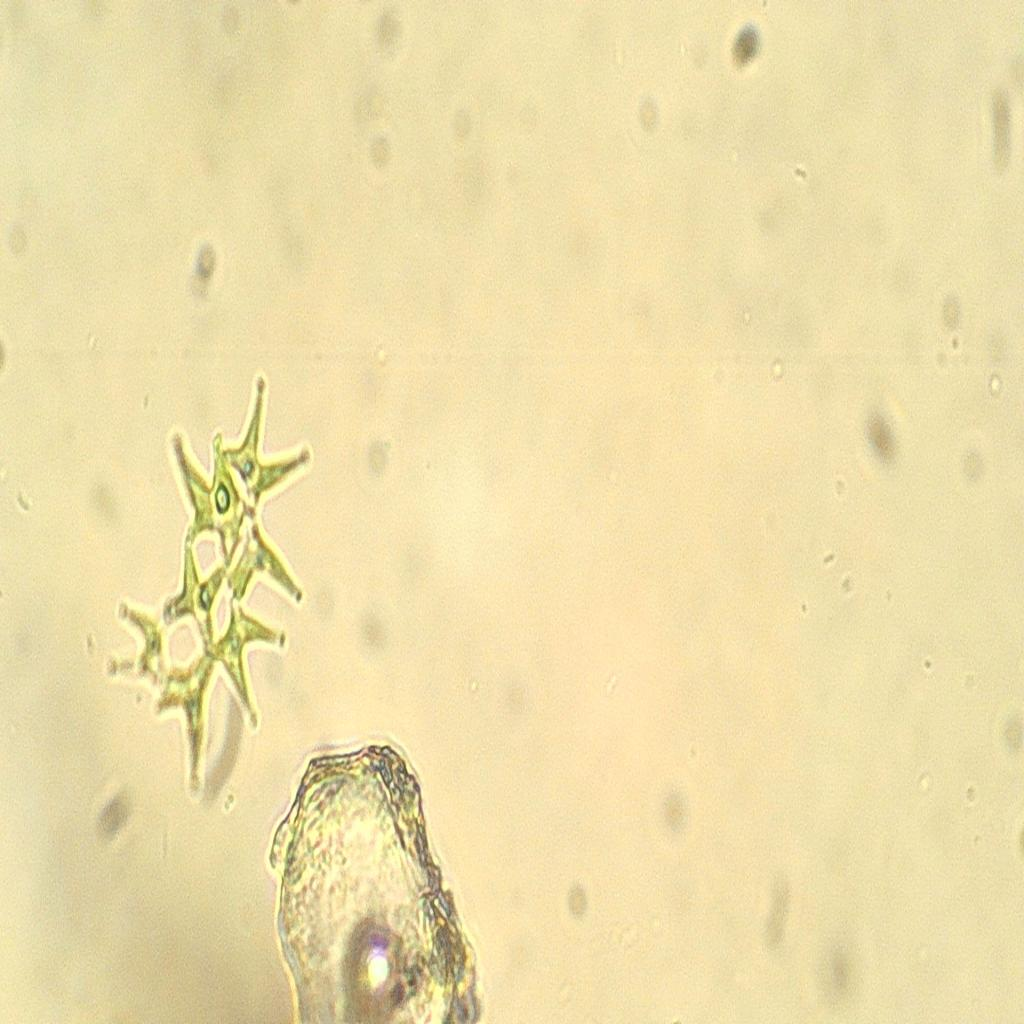Pediastrum_1TH: (97, 361, 318, 828)
